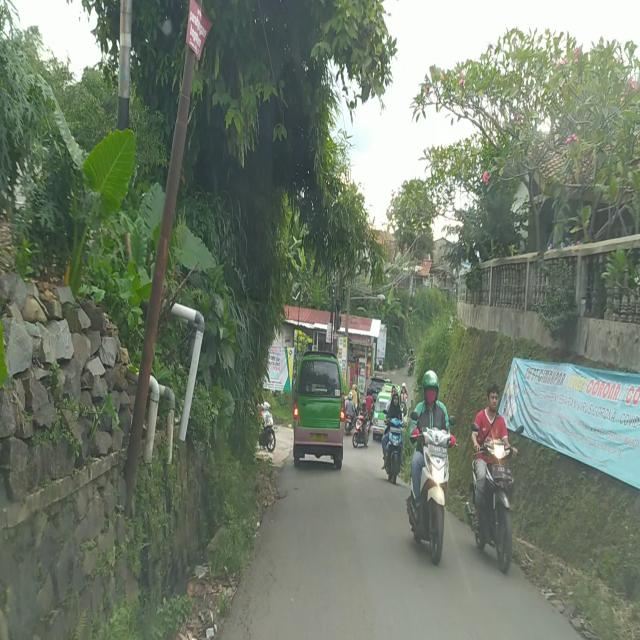Drain Hole: (231, 554, 277, 640)
